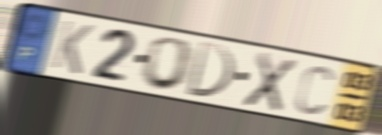2: (87, 28, 136, 85)
C: (294, 63, 335, 117)
D: (183, 39, 237, 102)
K: (48, 18, 96, 78)
O: (138, 35, 197, 94)
X: (240, 49, 299, 115)
